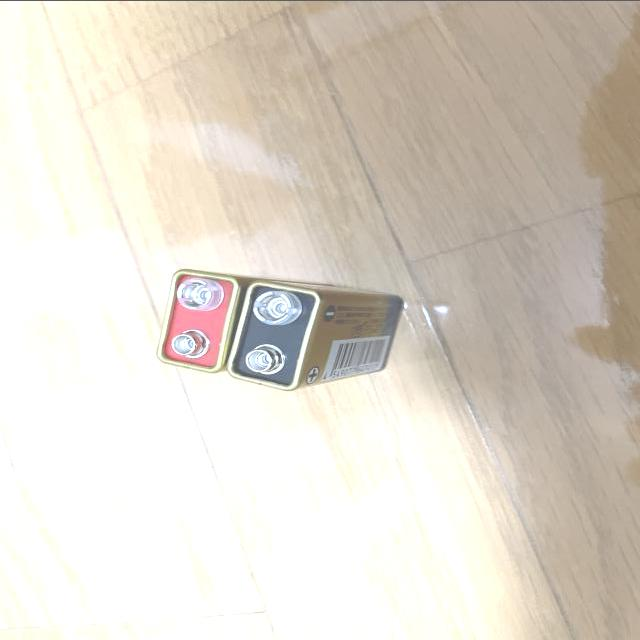9V: (225, 267, 408, 392), (154, 267, 341, 373)
